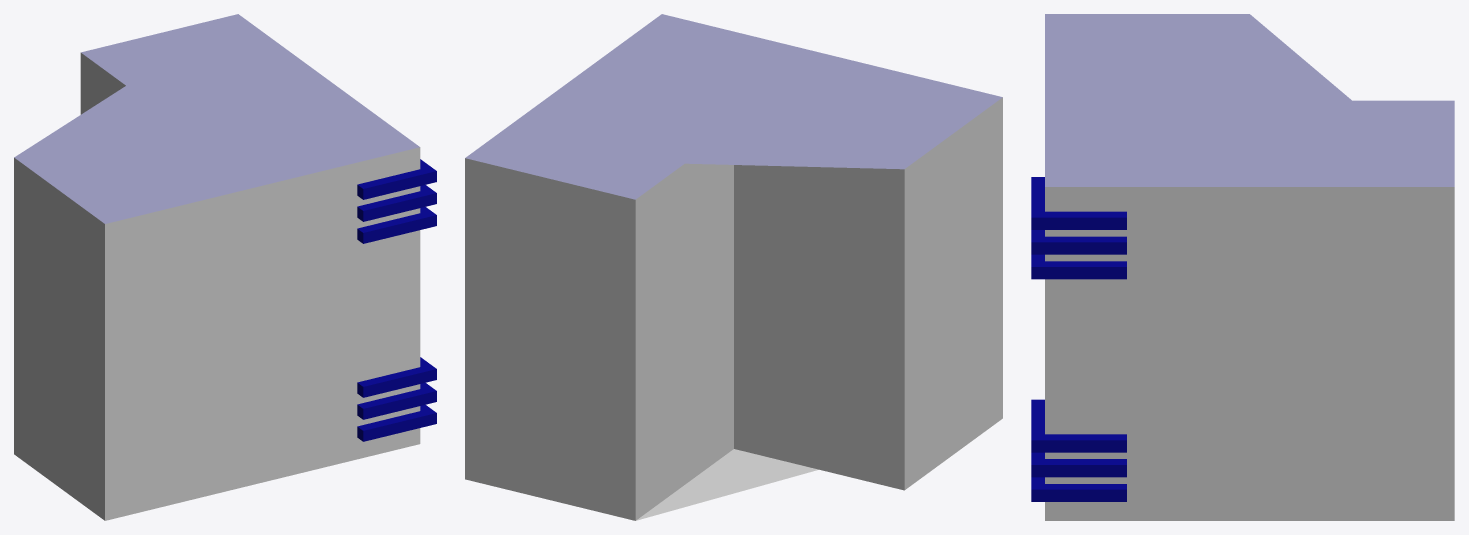
The model's file is desk1.glb.
3 renders of one model, left to right at view 1: azimuth 30°, elevation 25°; view 2: azimuth 150°, elevation 25°; view 3: azimuth 270°, elevation 25°, orthographic. The views are drawn at different scales.
Visible parts, largest first — view 1: Group1.3, Group5.9, Group9.16, Group4.7, Group6.11, Group10.18, Group8.14; view 2: Group1.3; view 3: Group1.3, Group5.9, Group9.16, Group4.7, Group10.18, Group8.14, Group6.11.
Boxes of the visible parts, x1,y1,x2,y2 form: Group1.3: [14, 14, 420, 520]; Group5.9: [357, 357, 436, 397]; Group9.16: [357, 159, 436, 199]; Group4.7: [357, 383, 436, 419]; Group6.11: [357, 405, 436, 441]; Group10.18: [357, 207, 436, 243]; Group8.14: [357, 185, 436, 221]; Group1.3: [465, 14, 1002, 520]; Group1.3: [1045, 14, 1454, 520]; Group5.9: [1031, 399, 1126, 452]; Group9.16: [1031, 177, 1126, 229]; Group4.7: [1031, 452, 1126, 477]; Group10.18: [1031, 254, 1126, 279]; Group8.14: [1031, 230, 1126, 254]; Group6.11: [1031, 477, 1126, 501].
Size of the model in its own units: 31 by 27 by 31.
